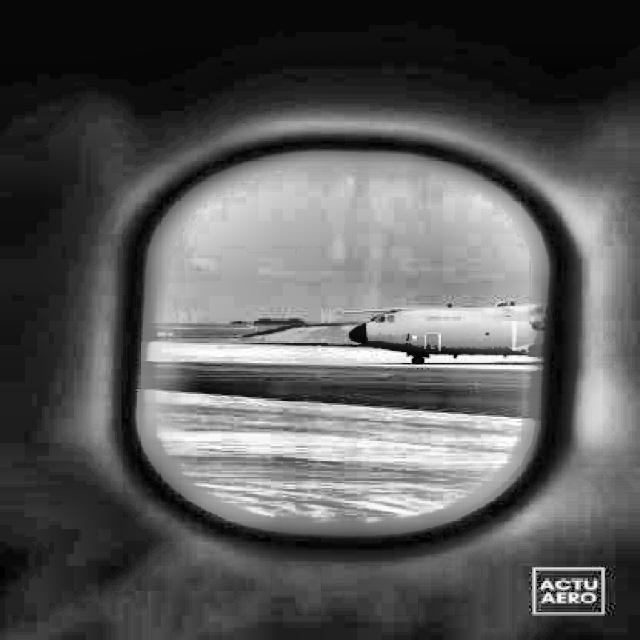A400M: (338, 300, 547, 366)
